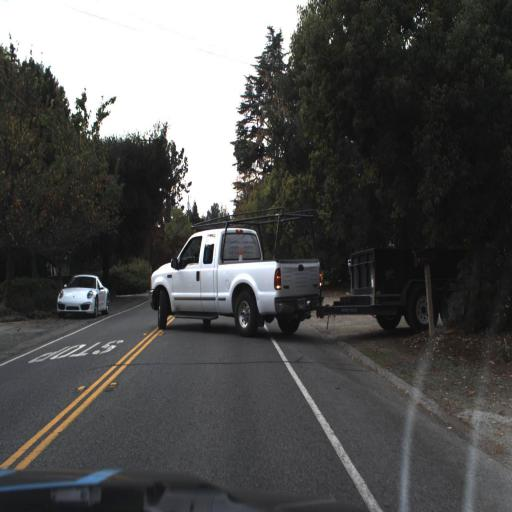car: (151, 228, 471, 322), (57, 272, 107, 315)
